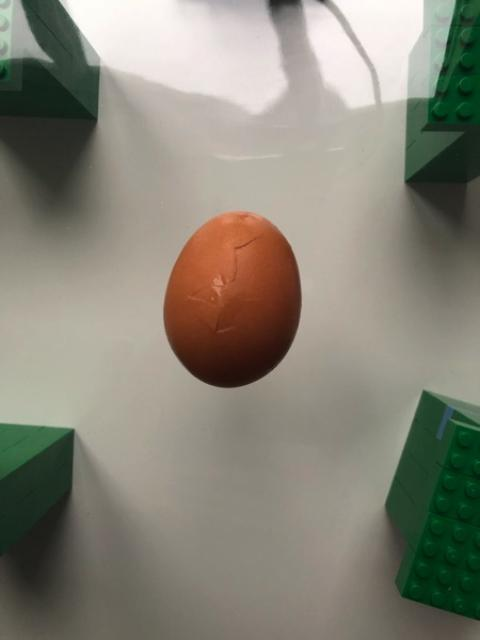Roto: (162, 209, 302, 388)
